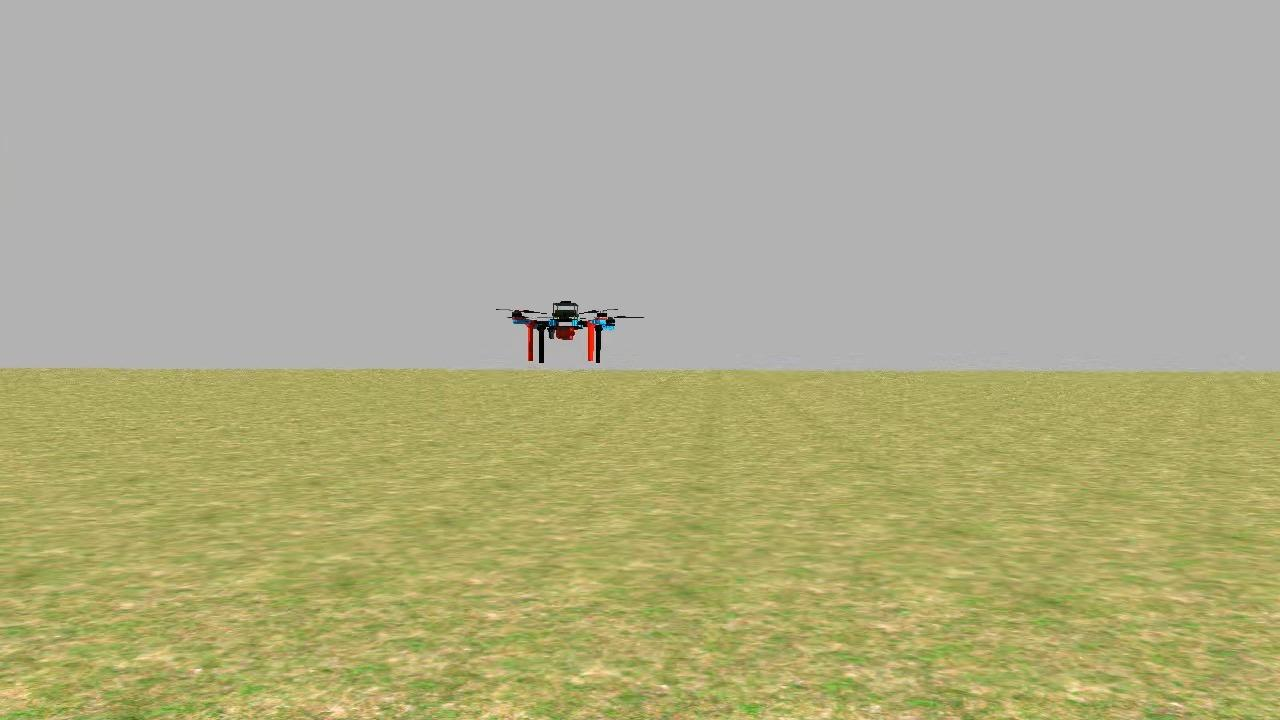UAV: (502, 300, 624, 363)
